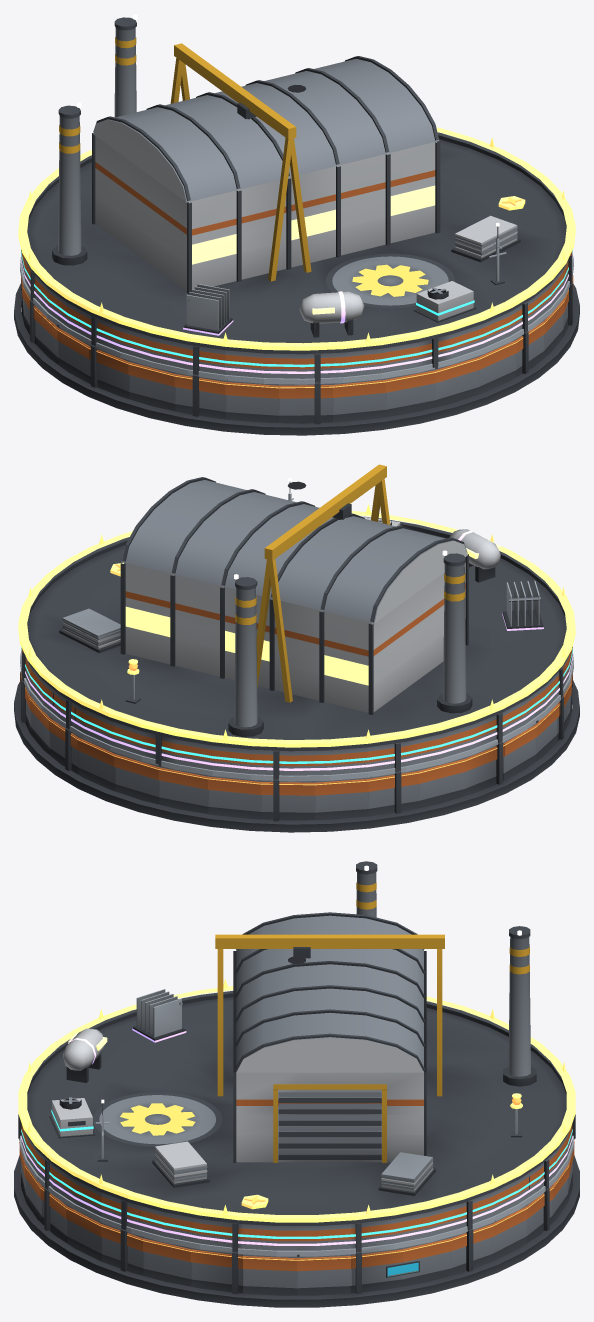
The model's file is fabricator_m.glb.
3 renders of one model, top to bottom at view 1: azimuth 30°, elevation 25°; view 2: azimuth 150°, elevation 25°; view 3: azimuth 270°, elevation 25°, orthographic.
Parts seen in each view (by area): view 1: Roof, Base, L4, Wall_21, Wall_20, Wall_22, Wall_19, Wall_23, Wall_18, L3, Wall_24, Wall_17 (+19 smaller); view 2: Roof, Base, L4, Wall_10, Wall_11, Wall_09, Wall_12, Wall_08, Wall_13, Wall_07, Wall_14, Wall_06 (+22 smaller); view 3: Roof, Base, L4, Wall_00, Wall_31, Wall_30, Wall_29, Wall_01, Wall_02, Wall_03, Wall_28, L3 (+22 smaller).
Boxes of the visible parts, <box> form: Roof: <box>24,14,566,354</box>; Base: <box>14,283,579,435</box>; L4: <box>183,284,364,337</box>; Wall_21: <box>279,382,332,424</box>; Wall_20: <box>225,379,278,422</box>; Wall_22: <box>333,378,385,422</box>; Wall_19: <box>174,372,225,419</box>; Wall_23: <box>385,369,435,416</box>; Wall_18: <box>128,360,175,411</box>; L3: <box>413,281,476,322</box>; Wall_24: <box>434,356,479,407</box>; Wall_17: <box>88,345,129,398</box>; Roof: <box>27,464,569,751</box>; Base: <box>14,680,579,832</box>; L4: <box>449,529,543,630</box>; Wall_10: <box>261,779,314,821</box>; Wall_11: <box>315,777,368,819</box>; Wall_09: <box>208,775,260,819</box>; Wall_12: <box>368,769,419,816</box>; Wall_08: <box>158,764,208,813</box>; Wall_13: <box>418,757,465,807</box>; Wall_07: <box>114,753,159,804</box>; Wall_14: <box>464,742,505,795</box>; Wall_06: <box>77,736,115,791</box>; Roof: <box>25,861,568,1225</box>; Base: <box>14,1155,579,1307</box>; L4: <box>63,989,186,1082</box>; Wall_00: <box>297,1254,350,1295</box>; Wall_31: <box>243,1254,296,1295</box>; Wall_30: <box>190,1248,242,1293</box>; Wall_29: <box>142,1237,191,1286</box>; Wall_01: <box>351,1248,403,1293</box>; Wall_02: <box>402,1237,451,1286</box>; Wall_03: <box>450,1223,493,1275</box>; Wall_28: <box>100,1223,143,1275</box>; L3: <box>49,1097,95,1138</box>.
Bounding box in the file's own units: 16.26 × 7.39 × 16.26.
